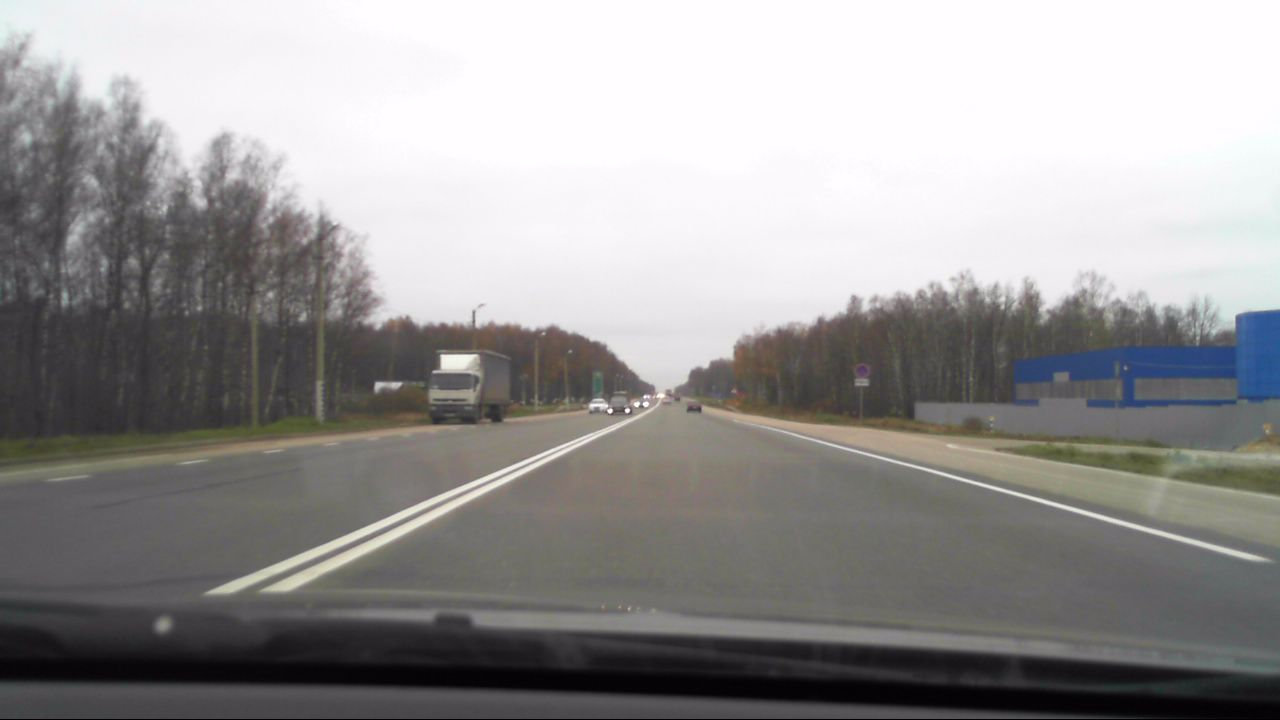No Parking: (852, 360, 873, 377)
